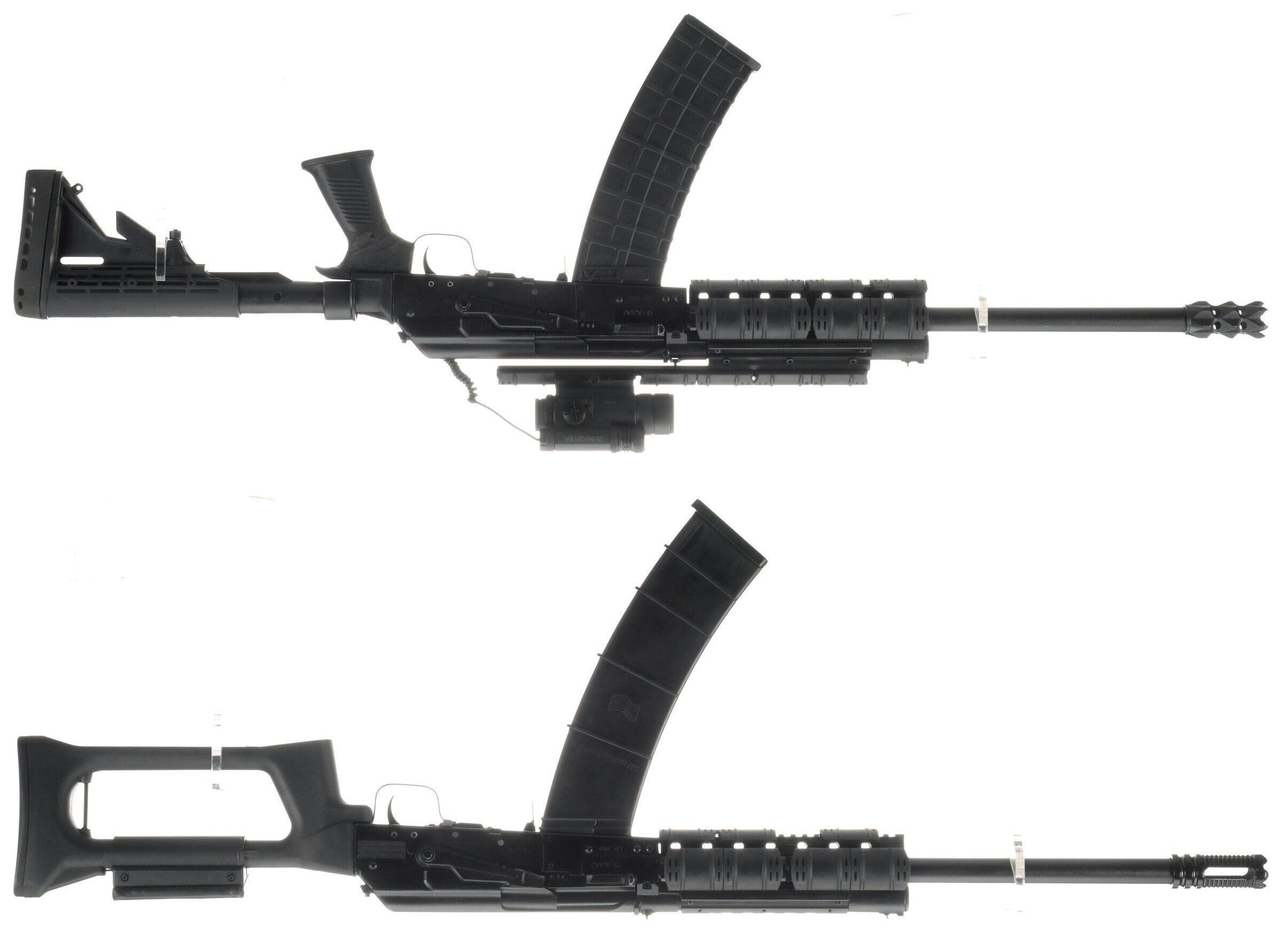larga: (12, 11, 1268, 455), (15, 490, 1271, 922)
